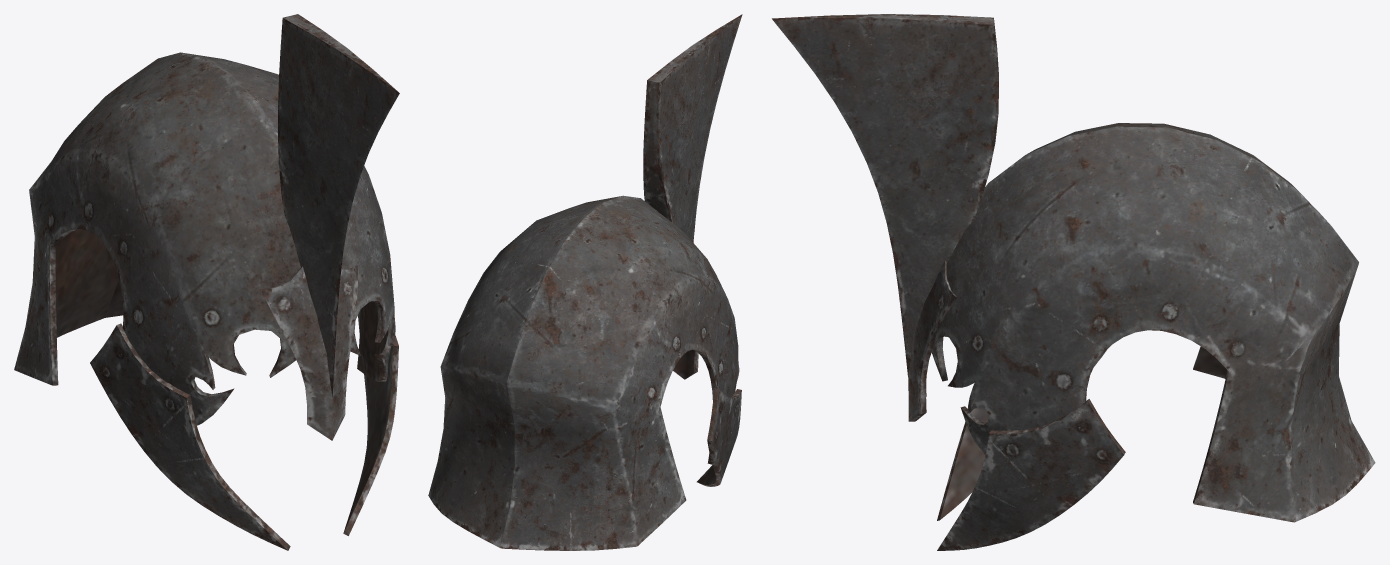
File: sk_gb_uruk_helmet_heavy_j.fbx
3 renders of one model, left to right at view 1: azimuth 30°, elevation 25°; view 2: azimuth 150°, elevation 25°; view 3: azimuth 270°, elevation 25°, orthographic. The views are drawn at different scales.
Visible parts, largest first — view 1: sk_gb_uruk_helmet_heavy_j; view 2: sk_gb_uruk_helmet_heavy_j; view 3: sk_gb_uruk_helmet_heavy_j.
Boxes of the visible parts, x1,y1,x2,y2 form: sk_gb_uruk_helmet_heavy_j: (14, 14, 399, 550); sk_gb_uruk_helmet_heavy_j: (428, 14, 742, 550); sk_gb_uruk_helmet_heavy_j: (772, 14, 1375, 550).
Size of the model in its own units: 0.2123 by 0.3934 by 0.3735.
Materials: 1 (1 with a texture image).
